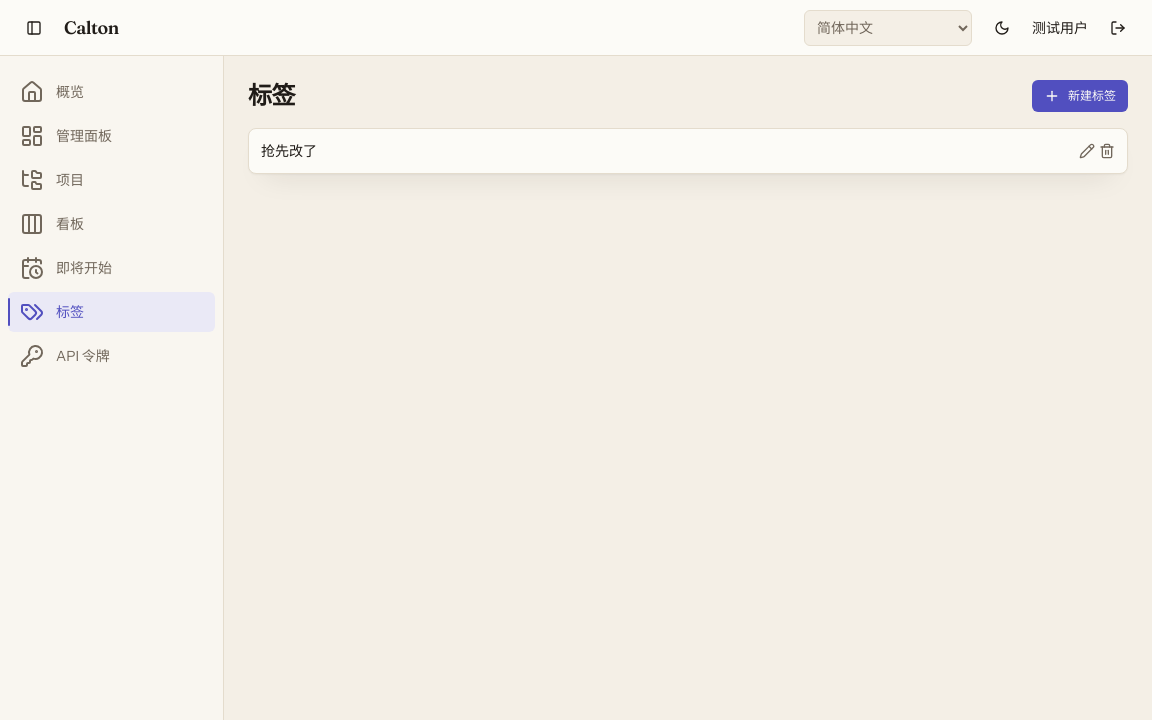
Test case: 写路径的错误文案（读写对"不存在"的口径相反） › ★ 403 → 说"仅创建者可改"，文案与 404 那支不同
Click the button with test id "^label-edit-" at (1087, 151), box [1079,143,1095,159]
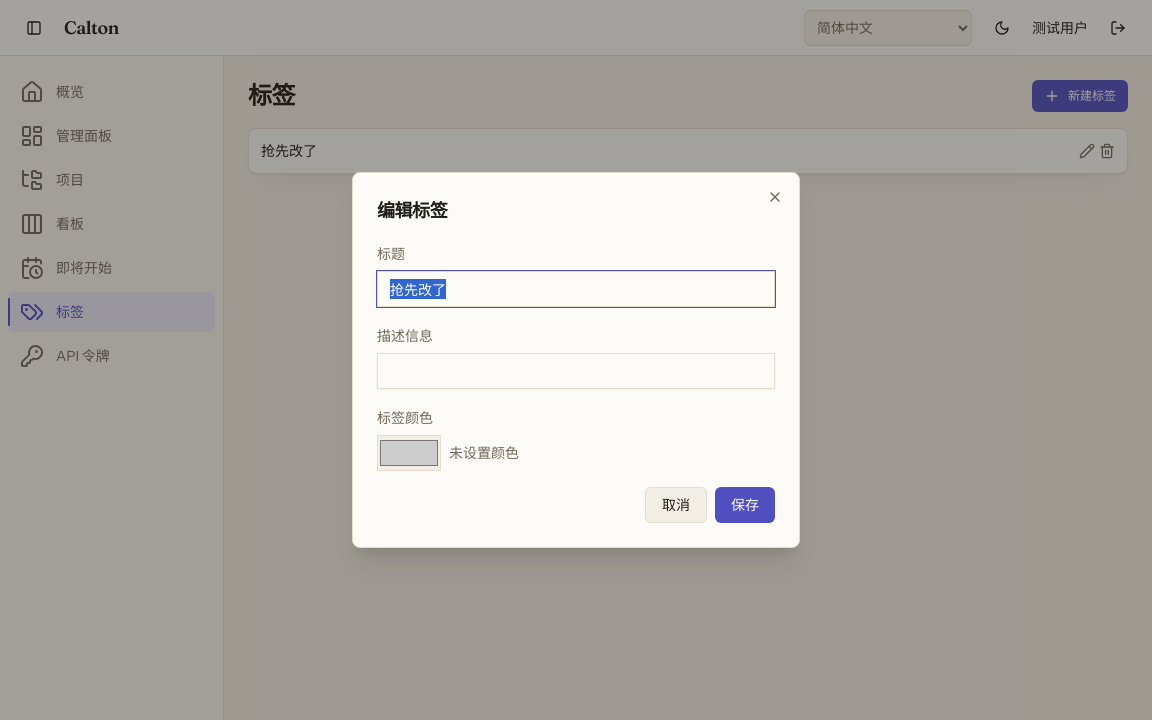
Click the button with test id "label-form-submit" at (745, 505), box [715,487,775,523]
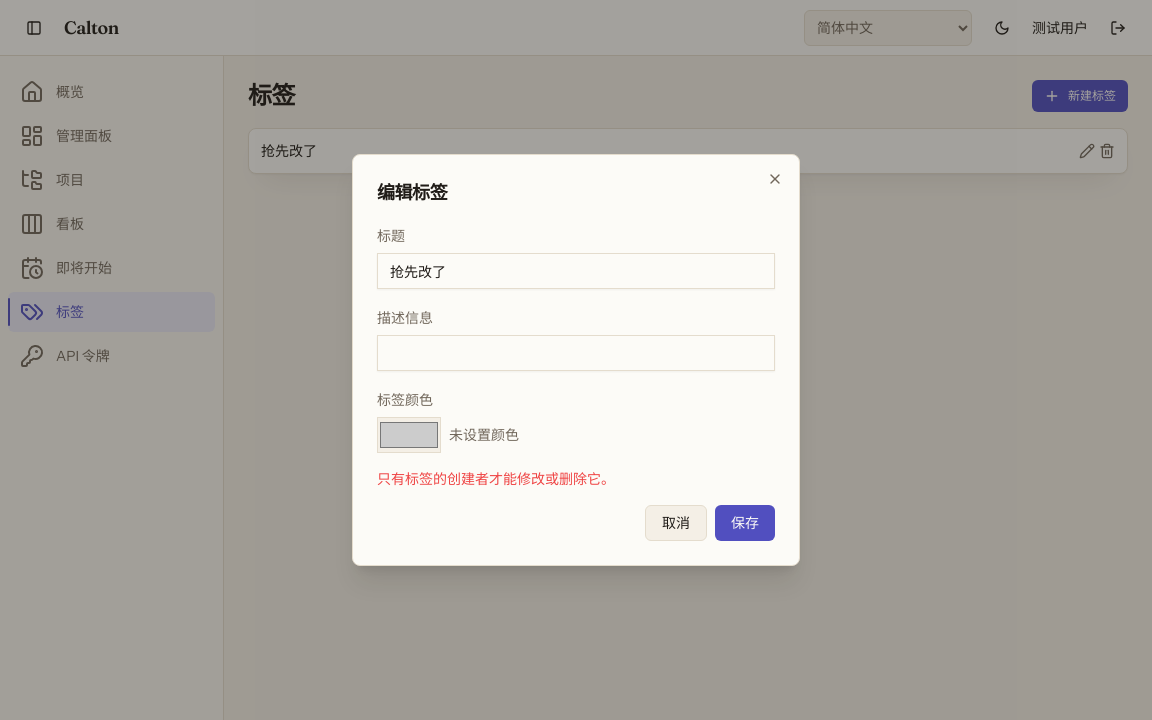
Expected: the message does not show "Forbidden", [377,470,615,488]
Expected: the message shows "创建者", [377,470,615,488]
